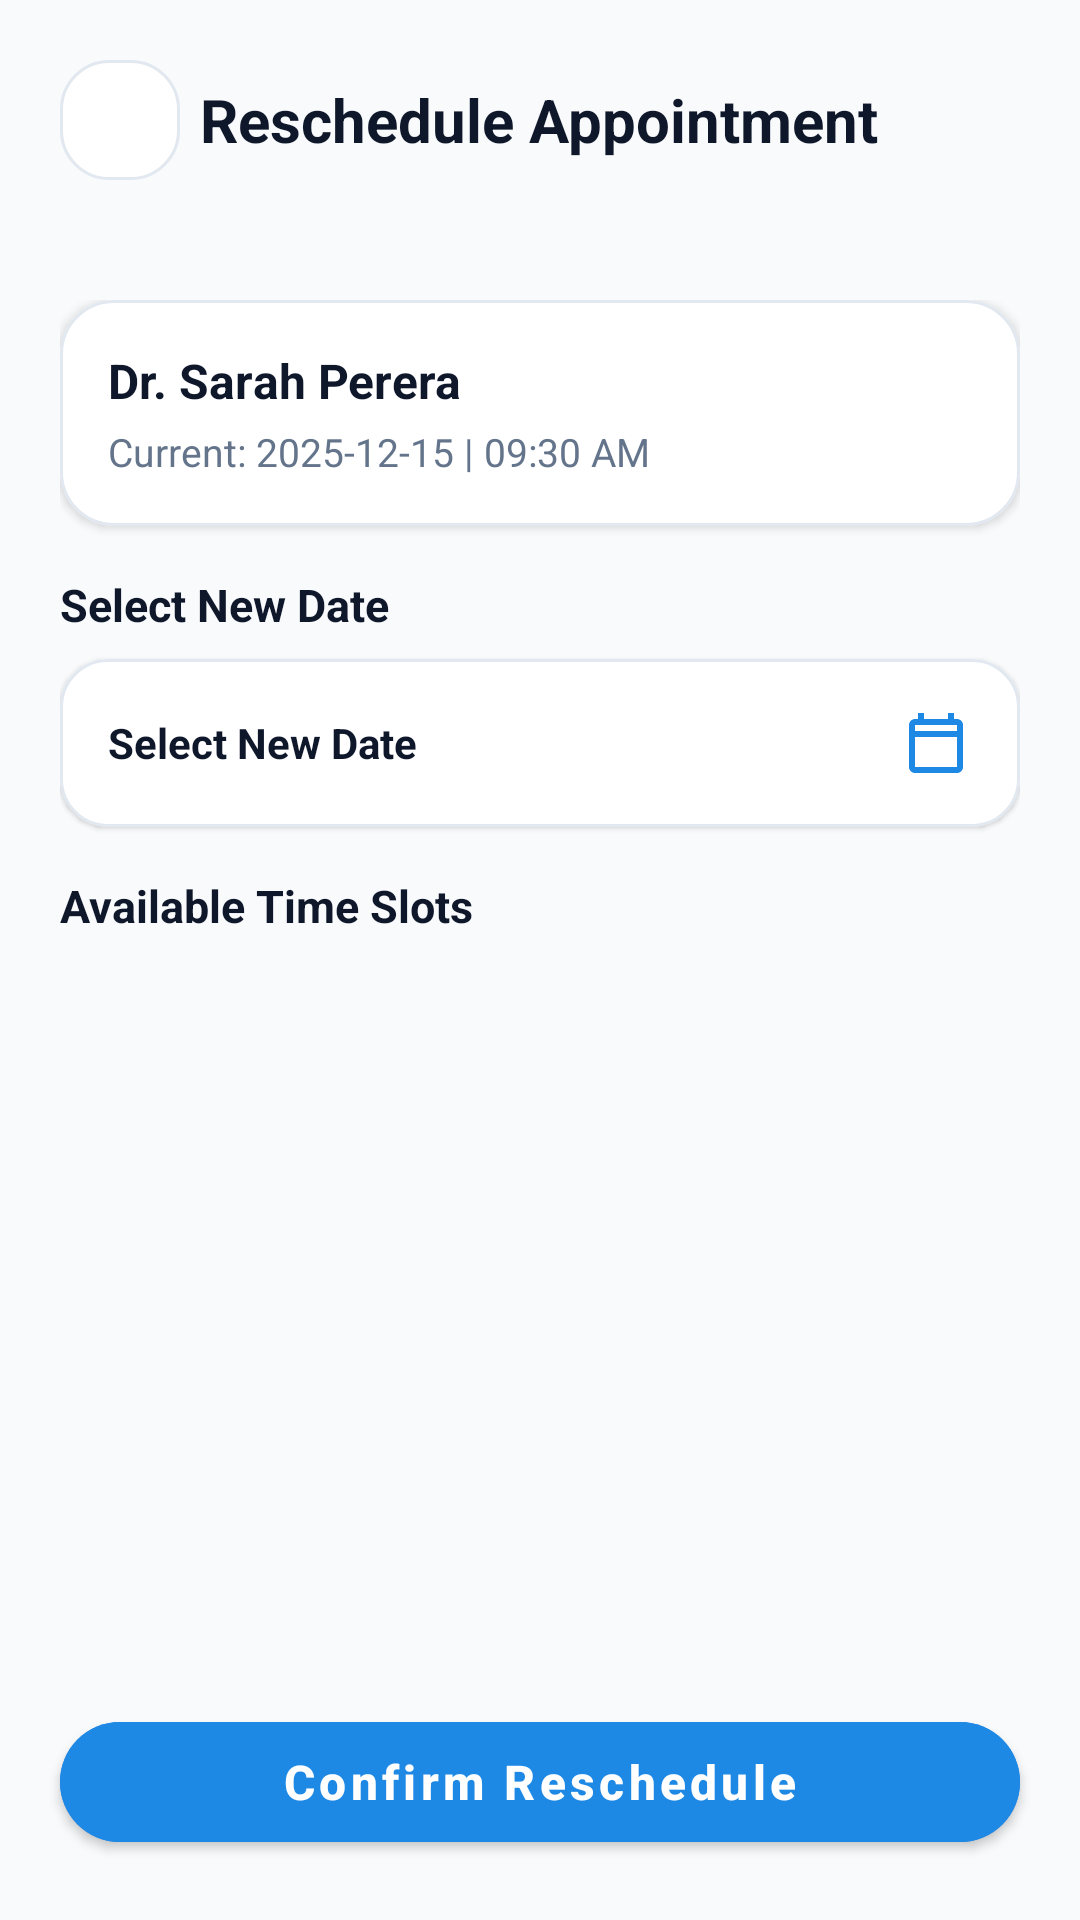

Icons on this 1080x1920 Android screen, each with the point to tap as (x=x, y=y):
Calendar: (x=936, y=743)
